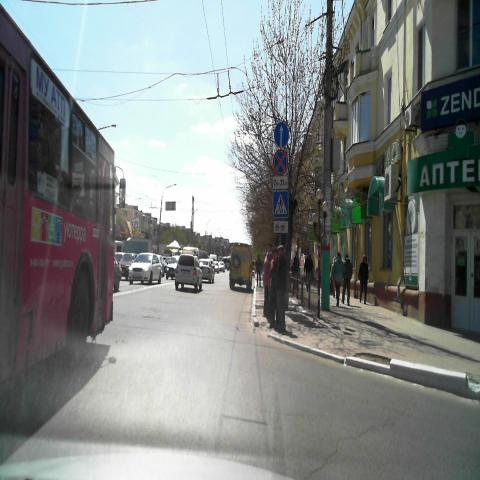8_15: (274, 220, 288, 233)
8_5_4: (272, 176, 288, 188)
